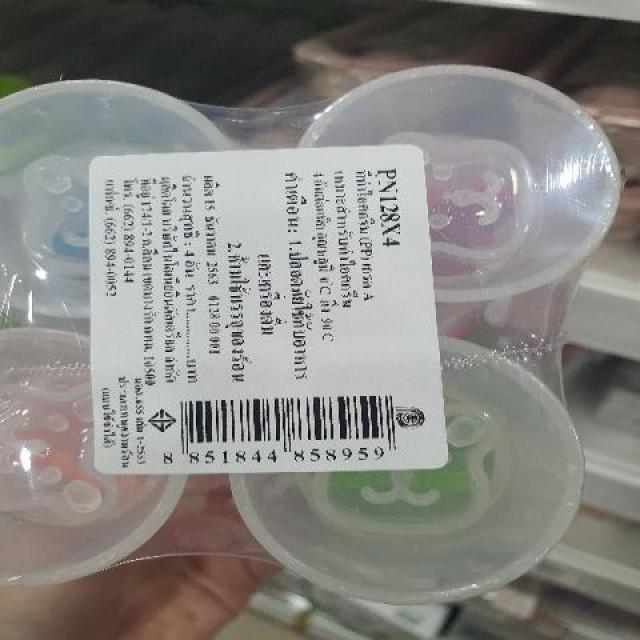Barcode: (168, 390, 400, 465)
